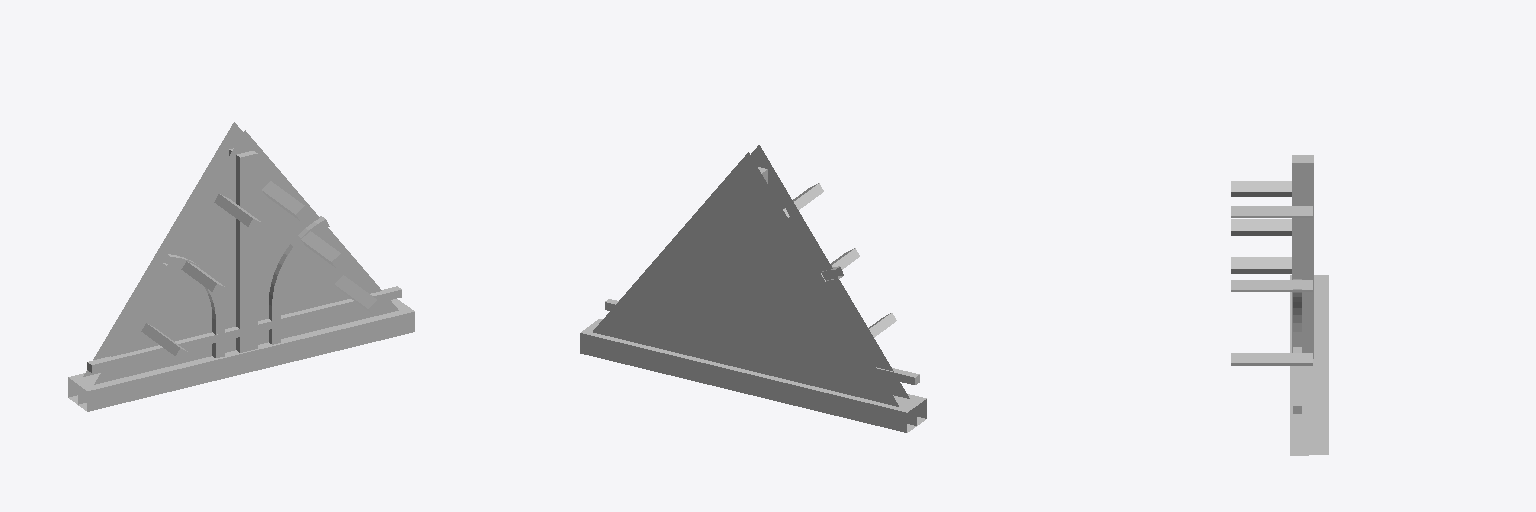
Rendered from Roof_Front_Brick4.obj.
3 views of the same model, side by side, from view 1: azimuth 30°, elevation 25°; view 2: azimuth 150°, elevation 25°; view 3: azimuth 270°, elevation 25° (orthographic).
Visible parts, largest first — view 1: Roof_Front_Brick4; view 2: Roof_Front_Brick4; view 3: Roof_Front_Brick4.
Boxes of the visible parts, x1,y1,x2,y2 form: Roof_Front_Brick4: [68, 122, 414, 411]; Roof_Front_Brick4: [580, 145, 926, 432]; Roof_Front_Brick4: [1231, 155, 1328, 455].
Size of the model in its own units: 4.4 by 3.07 by 1.13.